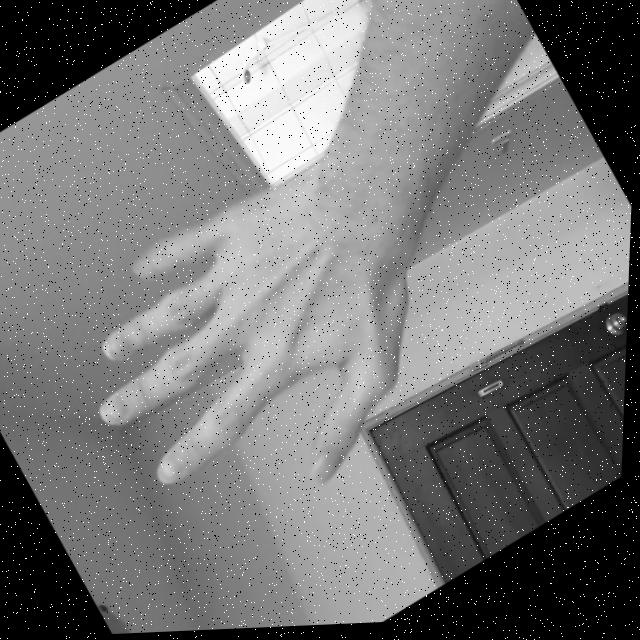hand: (34, 143, 472, 582)
